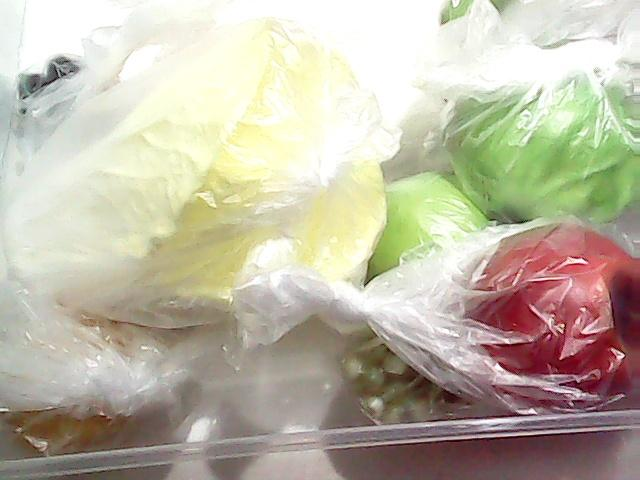apple: (439, 214, 640, 418), (365, 176, 497, 280)
cabbage: (420, 2, 640, 226)
grape: (334, 305, 448, 435), (5, 45, 94, 113)
napa cabbage: (11, 22, 376, 302)
potato: (0, 298, 168, 457)
